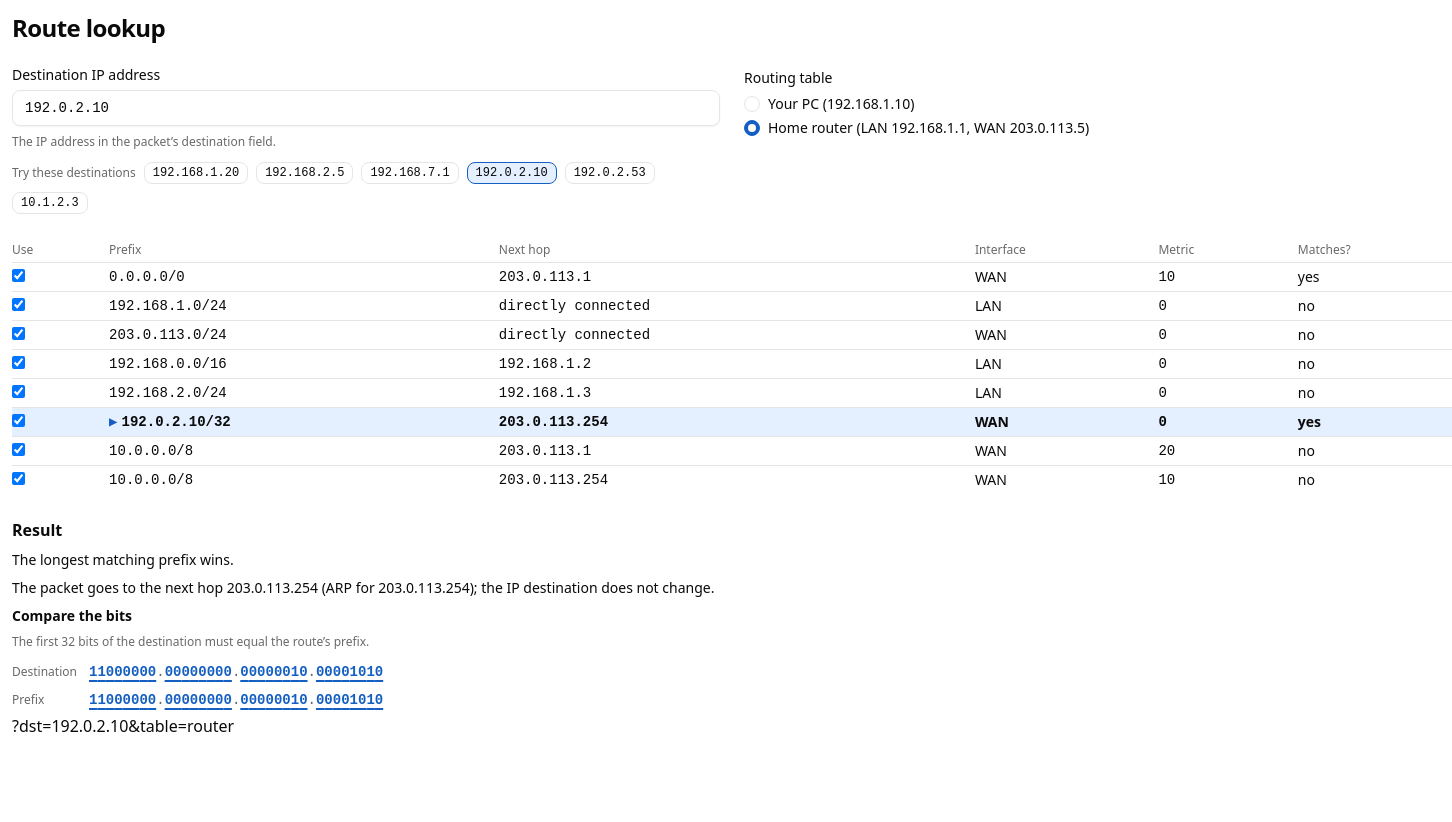
RouteLookup › 試す宛先のボタンで宛先を変え、URL に書き戻す
The image size is (1452, 822).
Click the button "10.1.2.3". click: click(50, 203)
box: [12,192,88,214]
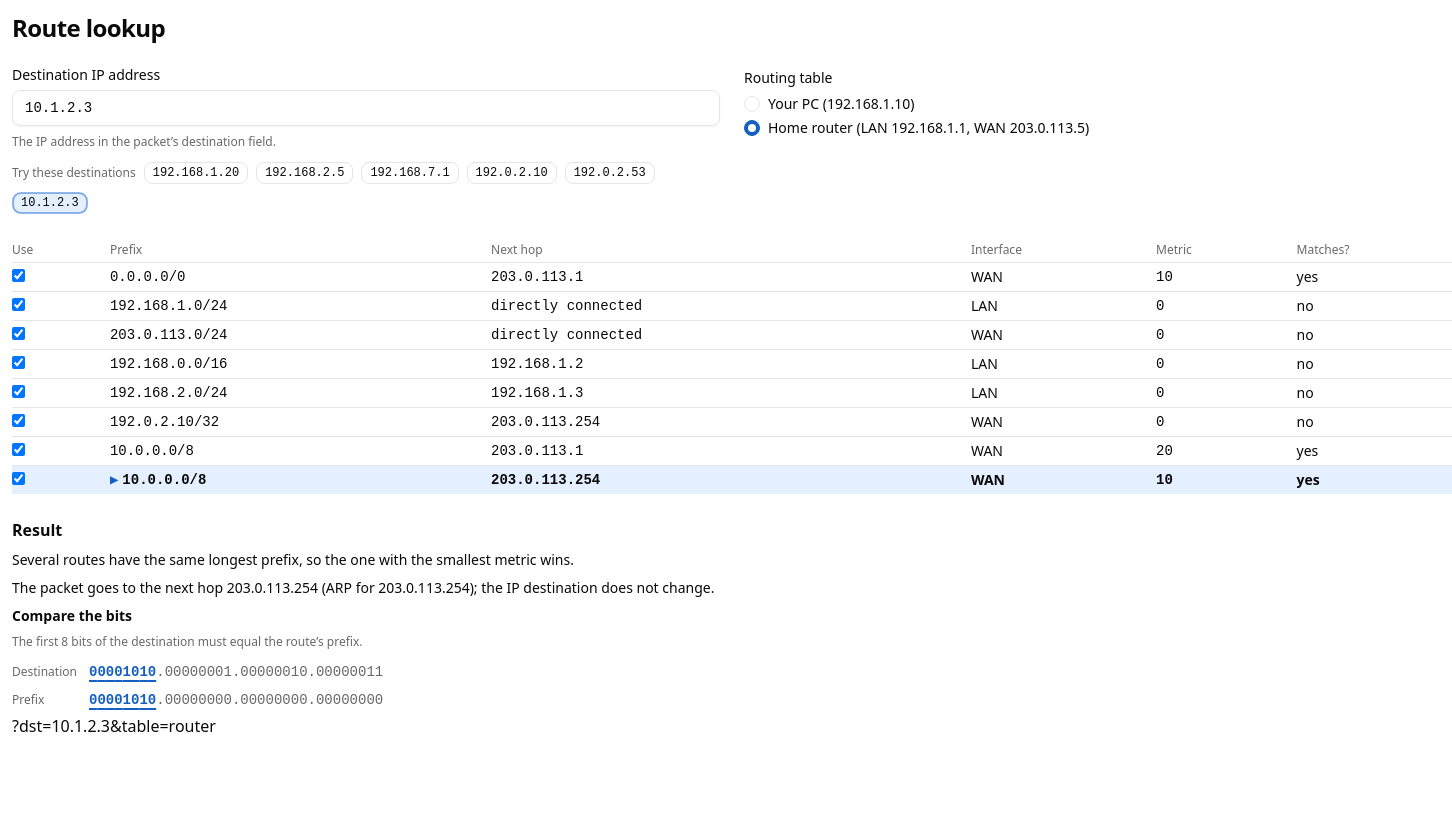
Check: the text with test id "location" reads "?dst=10.1.2.3&table=router", box [12,715,216,737]
Check: the text "smallest metric" is shown, box [12,550,574,569]
